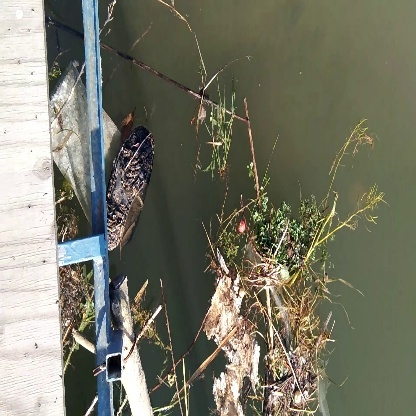plastic-garbage: (105, 123, 157, 256)
